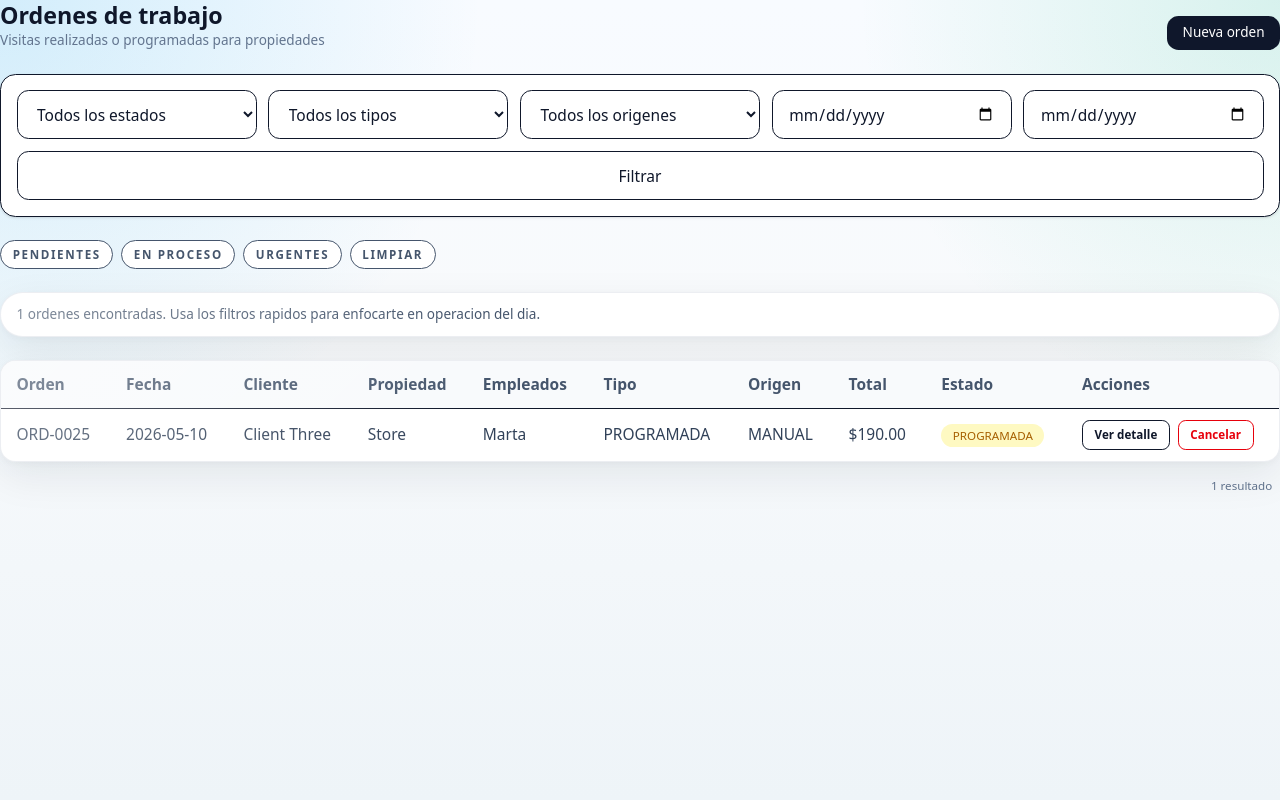
Test: OrdenesPage › bloquea la cancelacion si no se ingresa motivo
Expected: the text "ORD-0025" is shown, [1,408,111,461]
Click the button "Cancelar": (1216, 435) [1178,420,1254,450]
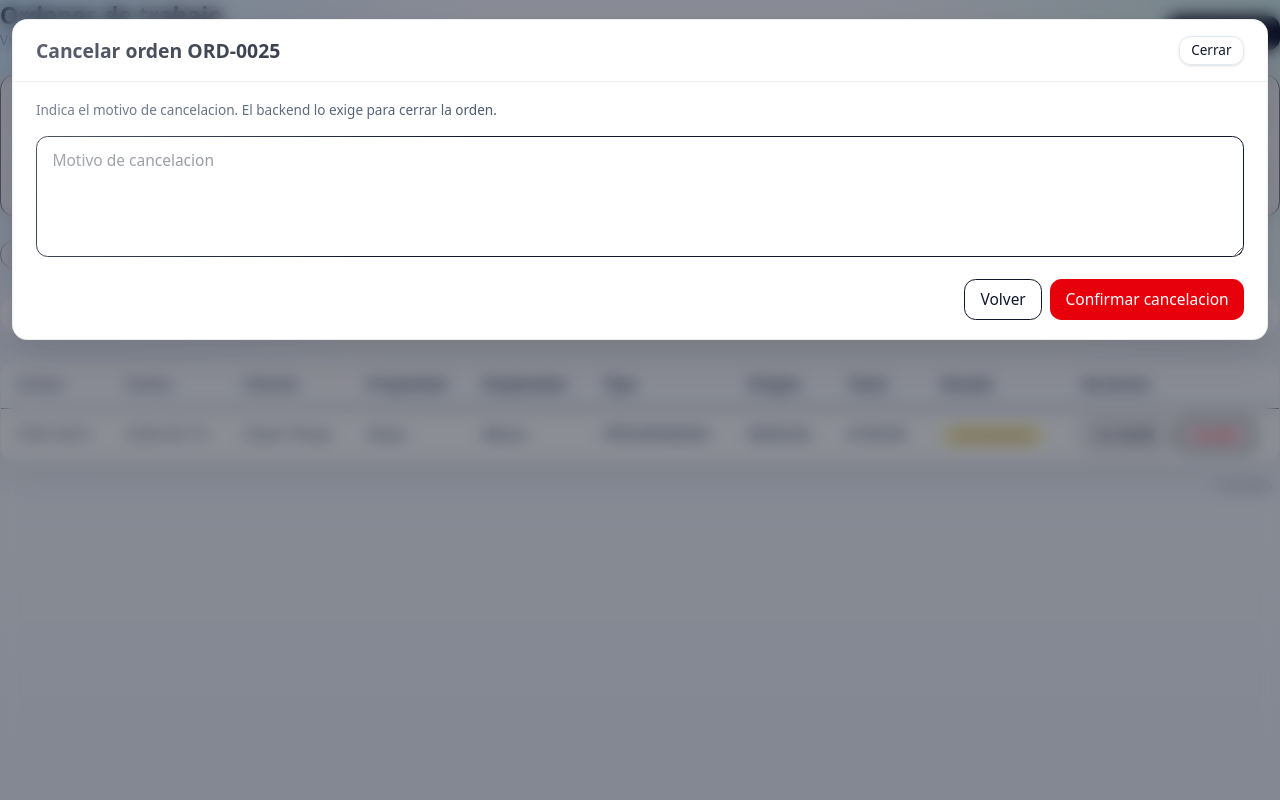
Click the button "Confirmar cancelacion": (1147, 299) [1050,279,1244,320]
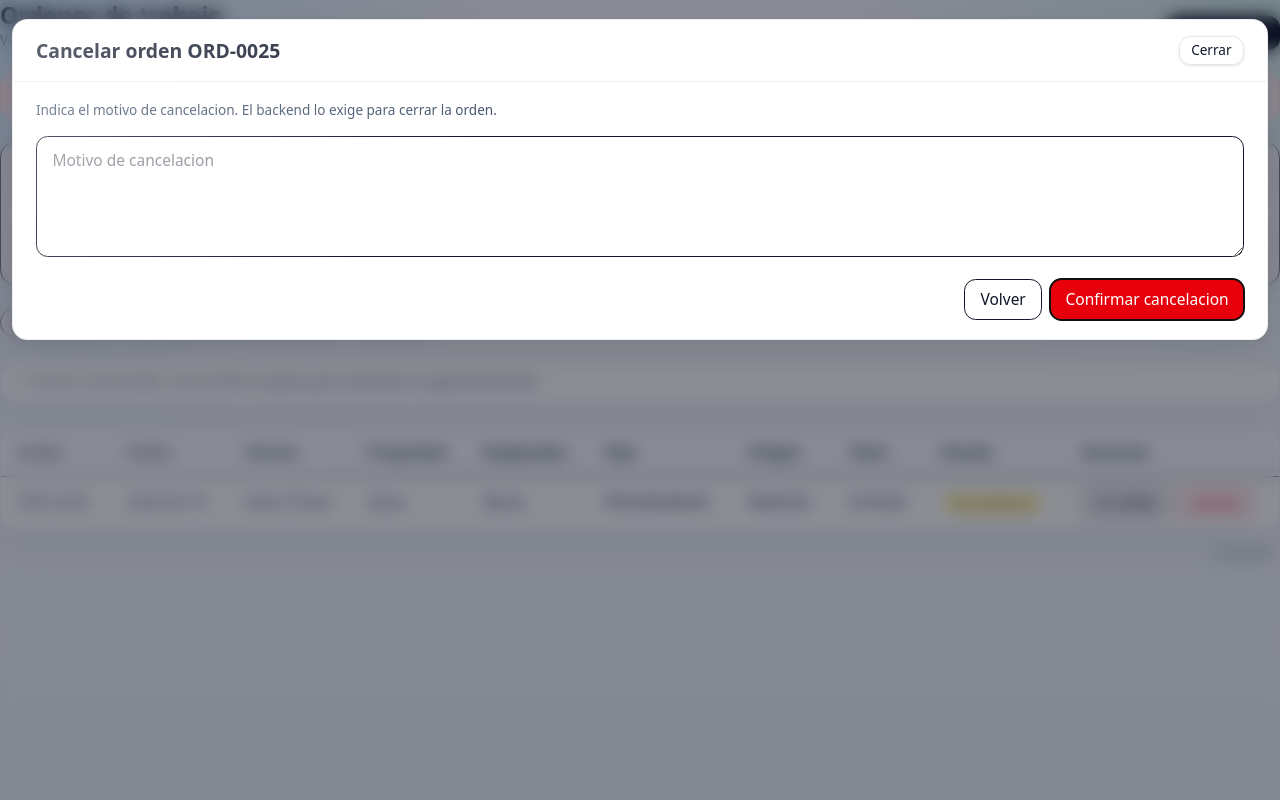
Now the text "Debes indicar el motivo de cancelacion." is shown, box [0,74,1279,118]
